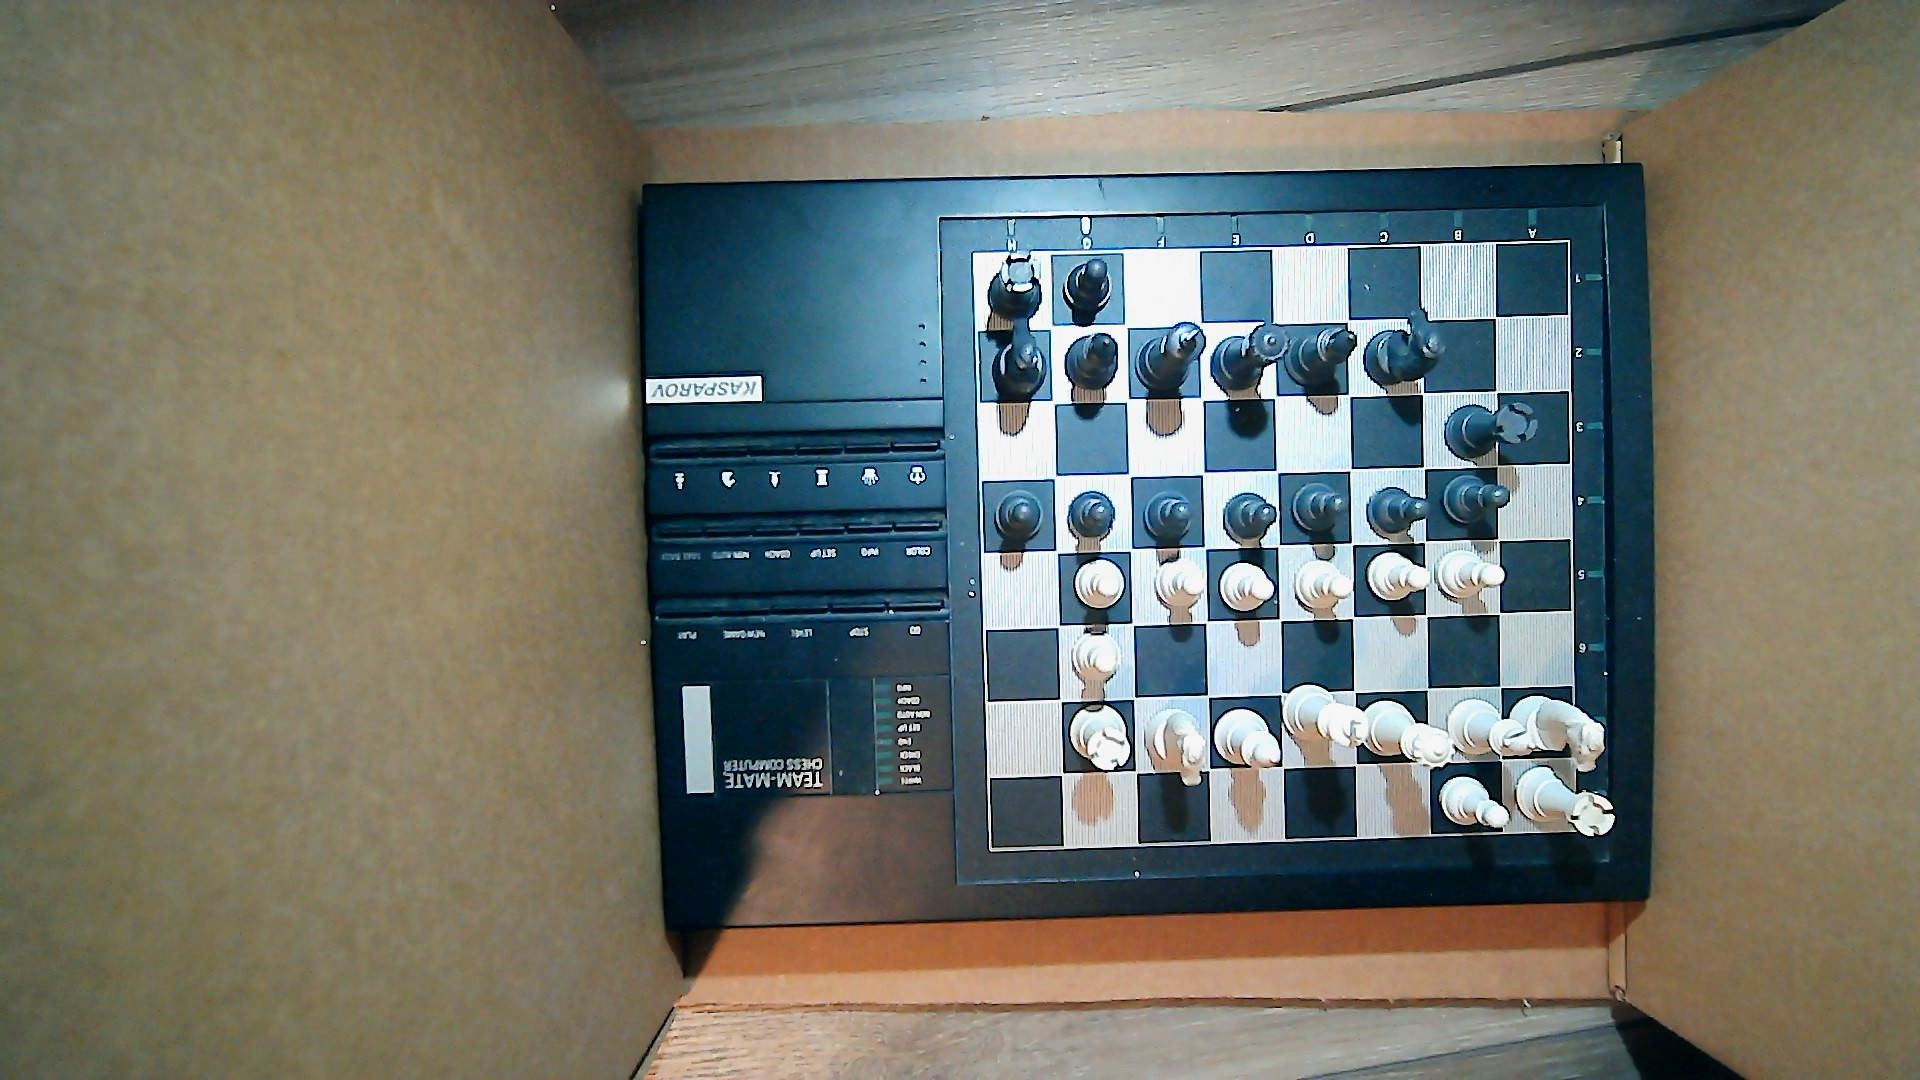bbishop: (1283, 323, 1356, 389)
bking: (1133, 319, 1207, 393)
bknight: (1361, 306, 1449, 384), (985, 323, 1051, 400)
bpawn: (1441, 472, 1511, 524), (1364, 485, 1431, 535), (1065, 332, 1121, 389), (1065, 488, 1122, 543), (1062, 258, 1116, 315), (1222, 489, 1279, 542), (1291, 480, 1349, 531), (1142, 488, 1195, 543), (994, 488, 1044, 541)
bqueen: (1209, 322, 1290, 392)
brook: (1440, 401, 1538, 459), (986, 251, 1043, 319)
wbishop: (1443, 698, 1539, 765), (1215, 708, 1280, 770)
wking: (1283, 682, 1370, 752)
wknight: (1509, 694, 1604, 771), (1142, 708, 1208, 787)
wpawn: (1436, 774, 1509, 835), (1435, 549, 1507, 600), (1364, 553, 1431, 604), (1216, 560, 1278, 615), (1064, 632, 1122, 688), (1151, 556, 1207, 615), (1294, 558, 1356, 608), (1072, 558, 1127, 613)
wqueen: (1364, 698, 1456, 771)
wrook: (1515, 764, 1617, 839), (1067, 699, 1134, 771)
